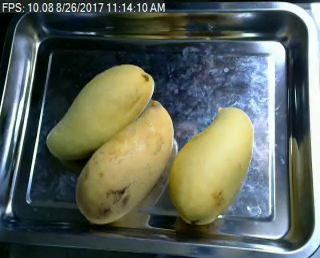Mango: (72, 99, 178, 225), (46, 61, 154, 167), (164, 107, 260, 225)
